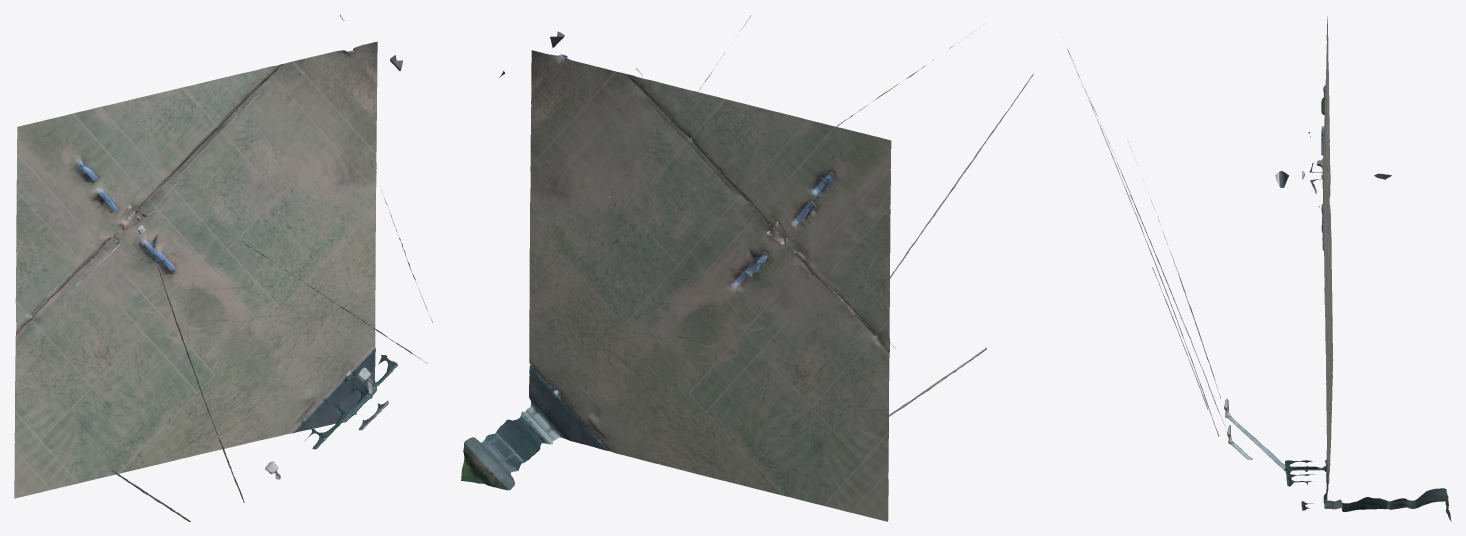
File: Tile_+019_+017.fbx
3 views of the same model, side by side, from view 1: azimuth 30°, elevation 25°; view 2: azimuth 150°, elevation 25°; view 3: azimuth 270°, elevation 25° (orthographic). The views are drawn at different scales.
Visible parts, largest first — view 1: DefaultName; view 2: DefaultName; view 3: DefaultName.
Boxes of the visible parts, box(x1,y1,x2,y2) form: DefaultName: box(14, 14, 432, 521); DefaultName: box(461, 15, 1033, 521); DefaultName: box(1062, 16, 1451, 521).
Bounding box in the file's own units: 22.54 × 22.54 × 22.95.
